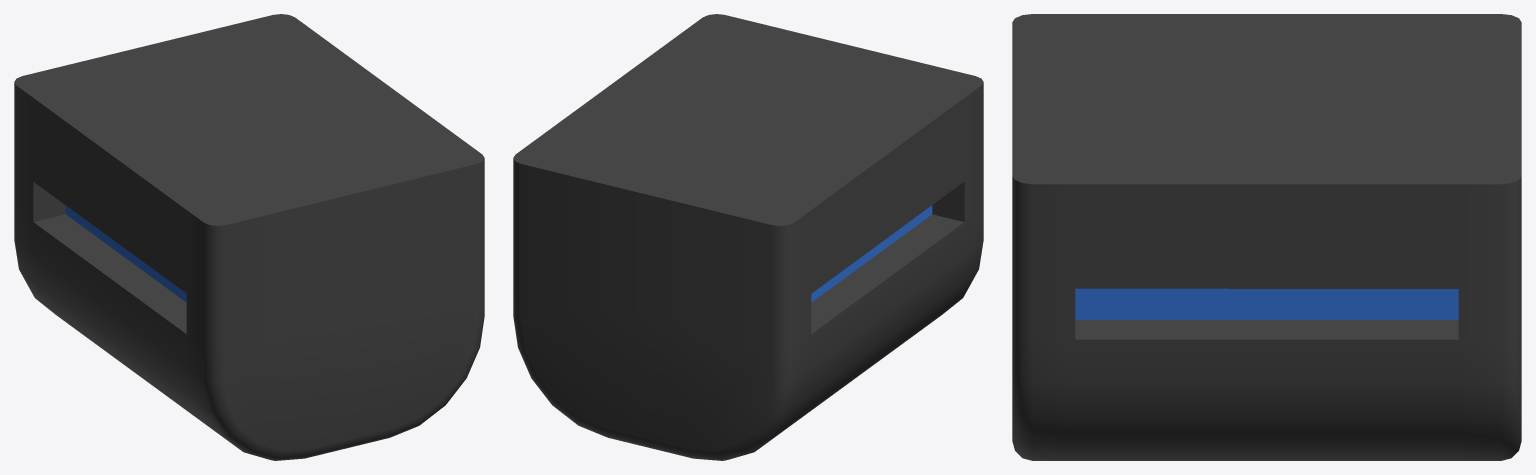
The model's file is Horn 1lv.fbx.
3 views of the same model, side by side, from view 1: azimuth 30°, elevation 25°; view 2: azimuth 150°, elevation 25°; view 3: azimuth 270°, elevation 25° (orthographic). The views are drawn at different scales.
Parts seen in each view (by area): view 1: Horn 1lv; view 2: Horn 1lv; view 3: Horn 1lv.
Part boxes in pixels (<box>): Horn 1lv: <box>14,14,484,460</box>; Horn 1lv: <box>513,14,983,460</box>; Horn 1lv: <box>1012,14,1521,460</box>.
Size of the model in its own units: 18.74 by 16.61 by 23.71.
